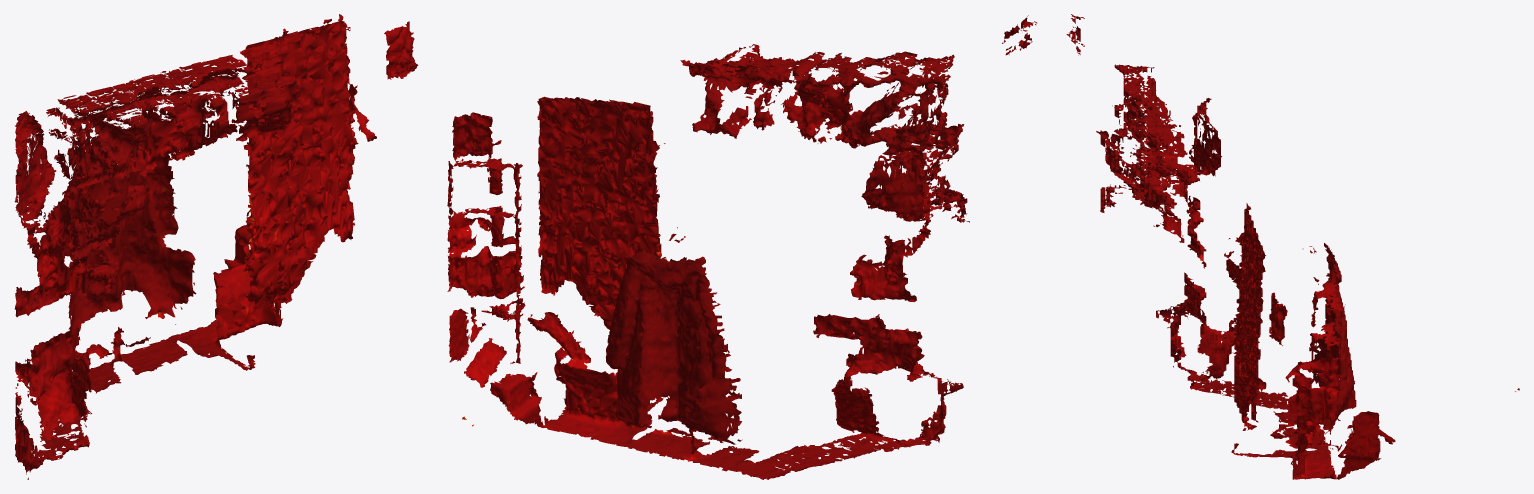
Rendered from mesh_iter_0001.obj.
The picture shows the model from 3 angles, left to right: view 1: azimuth 30°, elevation 25°; view 2: azimuth 150°, elevation 25°; view 3: azimuth 270°, elevation 25°; orthographic projection. The views are drawn at different scales.
Size of the model in its own units: 3 by 2.45 by 2.96.
